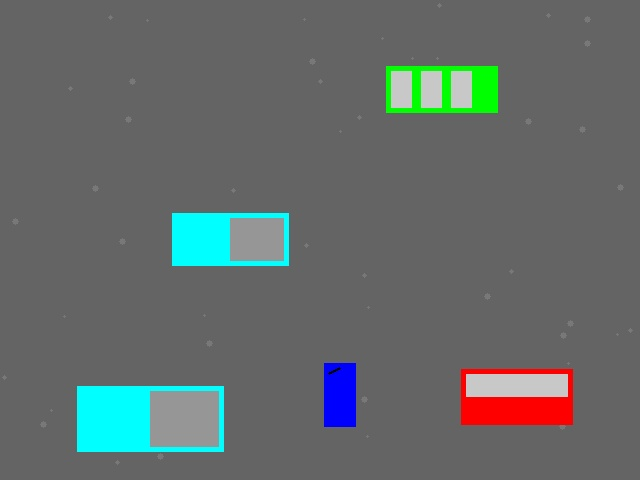bus: (386, 66, 497, 112)
car: (461, 369, 572, 424)
motorcycle: (324, 363, 355, 426)
truck: (77, 386, 223, 451), (172, 213, 288, 265)
